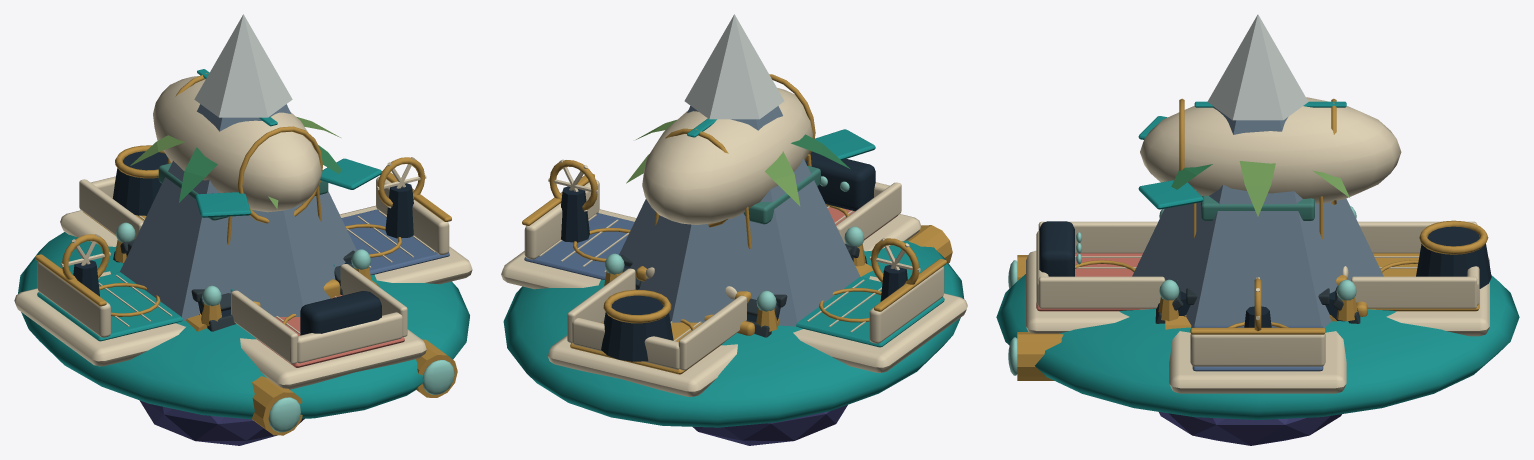
The model's file is tiny-worlds.glb.
The picture shows the model from 3 angles, left to right: view 1: azimuth 30°, elevation 25°; view 2: azimuth 150°, elevation 25°; view 3: azimuth 270°, elevation 25°; orthographic projection. The views are drawn at different scales.
Parts seen in each view (by area): view 1: ark_hull, mountain, airship, ark_controls, island_cosmic, palm, truck, temple; view 2: ark_hull, mountain, airship, ark_controls, island_cosmic, palm, truck, temple; view 3: ark_hull, mountain, airship, ark_controls, island_cosmic, palm, truck, temple.
Boxes of the visible parts, box(x1,y1,x2,y2) form: ark_hull: box(14, 171, 472, 435); mountain: box(120, 14, 356, 320); airship: box(153, 69, 381, 291); ark_controls: box(60, 145, 426, 335); island_cosmic: box(139, 400, 304, 445); palm: box(130, 117, 341, 208); truck: box(113, 239, 354, 331); temple: box(158, 163, 328, 220); ark_hull: box(501, 174, 967, 427); mountain: box(619, 14, 860, 326); airship: box(636, 74, 875, 303); ark_controls: box(548, 151, 920, 361); island_cosmic: box(693, 405, 847, 445); palm: box(626, 120, 849, 206); truck: box(621, 243, 867, 337); temple: box(743, 165, 820, 224); ark_hull: box(996, 206, 1519, 419); mountain: box(1132, 14, 1383, 327); airship: box(1138, 97, 1401, 285); ark_controls: box(1039, 220, 1491, 330); island_cosmic: box(1159, 412, 1341, 445); palm: box(1171, 161, 1349, 216); truck: box(1155, 286, 1367, 323); temple: box(1201, 195, 1314, 220).
Bounding box in the file's own units: 5.35 × 5.51 × 6.2.
